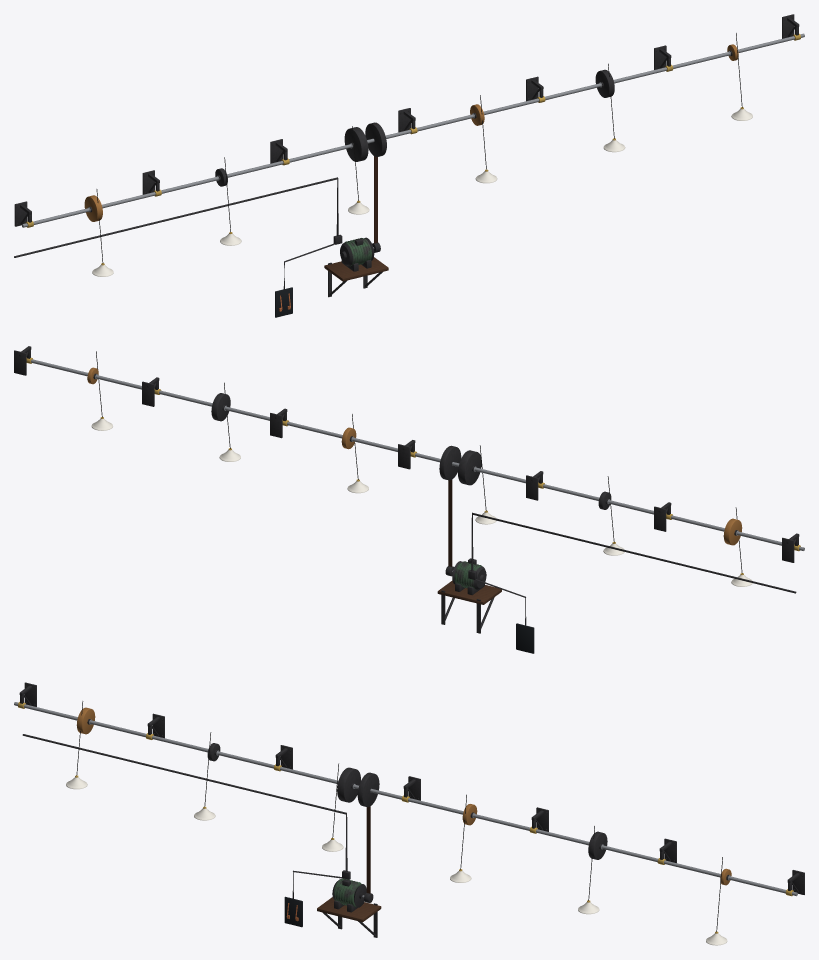
The model's file is line_shaft.glb.
The picture shows the model from 3 angles, top to bottom: view 1: azimuth 30°, elevation 25°; view 2: azimuth 150°, elevation 25°; view 3: azimuth 330°, elevation 25°; orthographic projection.
Parts seen in each view (by area): view 1: shaft, conduit, motorShelf, pulley2, beltPulley; view 2: shaft, conduit, motorShelf, pulley2, beltPulley; view 3: shaft, conduit, motorShelf, pulley2, beltPulley, switchSlate.
Part boxes in pixels (x1,y1,x2,y2): shaft: [21, 33, 804, 227]; conduit: [14, 177, 338, 257]; motorShelf: [324, 257, 388, 281]; pulley2: [344, 127, 368, 161]; beltPulley: [365, 122, 386, 156]; shaft: [31, 359, 804, 550]; conduit: [471, 512, 796, 593]; motorShelf: [437, 580, 501, 604]; pulley2: [458, 450, 481, 485]; beltPulley: [439, 445, 461, 480]; shaft: [14, 702, 797, 896]; conduit: [22, 734, 347, 871]; motorShelf: [317, 897, 381, 922]; pulley2: [337, 767, 360, 802]; beltPulley: [357, 772, 379, 807]; switchSlate: [284, 896, 302, 927].
Bounding box in the file's own units: 22 × 4.95 × 1.16.
12 materials, 5 textured.
